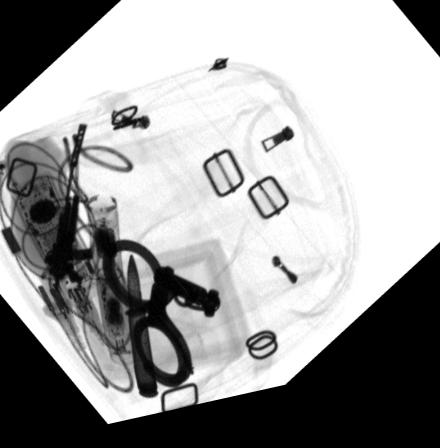Baton: (83, 196, 137, 371)
Bullet: (124, 255, 159, 405)
Gun: (43, 126, 95, 284)
HandCuffs: (101, 242, 222, 395)
